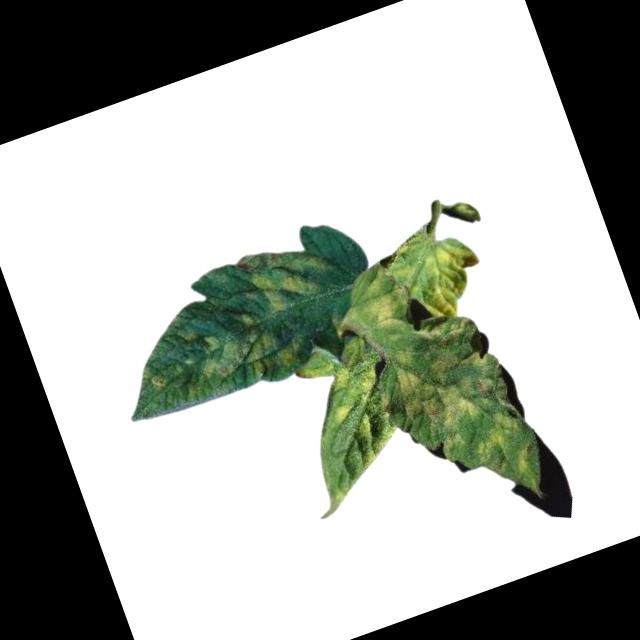Leaf_Mold: (368, 304, 552, 526), (124, 298, 314, 426), (291, 356, 418, 511), (378, 214, 495, 334), (233, 228, 338, 324), (341, 260, 415, 348)
